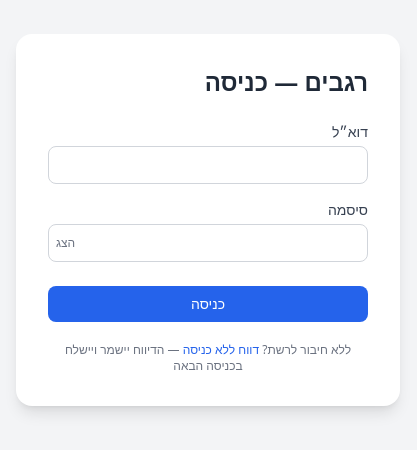
Test case: LoginPage › shows fallback error when no detail in response
The image size is (417, 450).
Type "a@b.com" into the field labelled "דוא״ל".
click(208, 165); type("a@b.com")  # box [48,146,368,184]
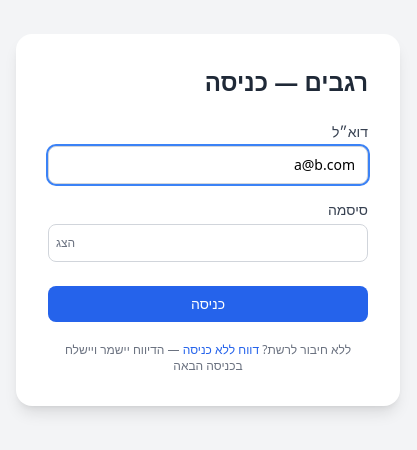
Type "wrong" into the password field labelled "סיסמה".
click(208, 243); type("wrong")  # box [48,224,368,262]
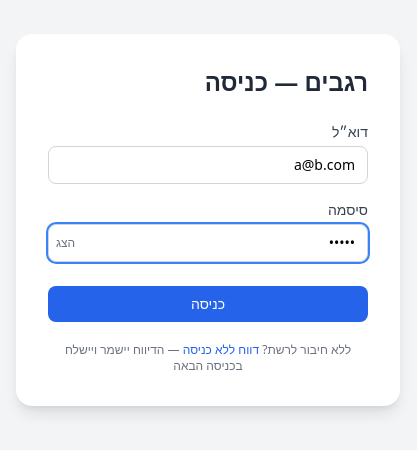
Click the button "כניסה".
click(208, 304)  # box [48,286,368,322]
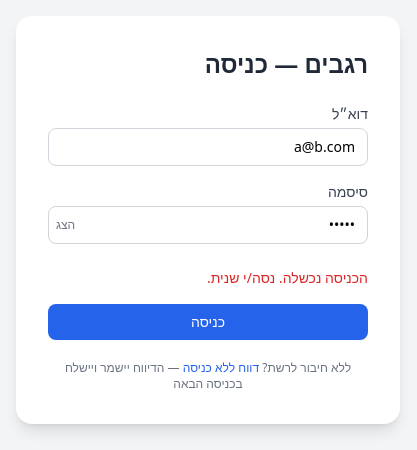
Now the message shows "הכניסה נכשלה", box [207,268,368,287]
